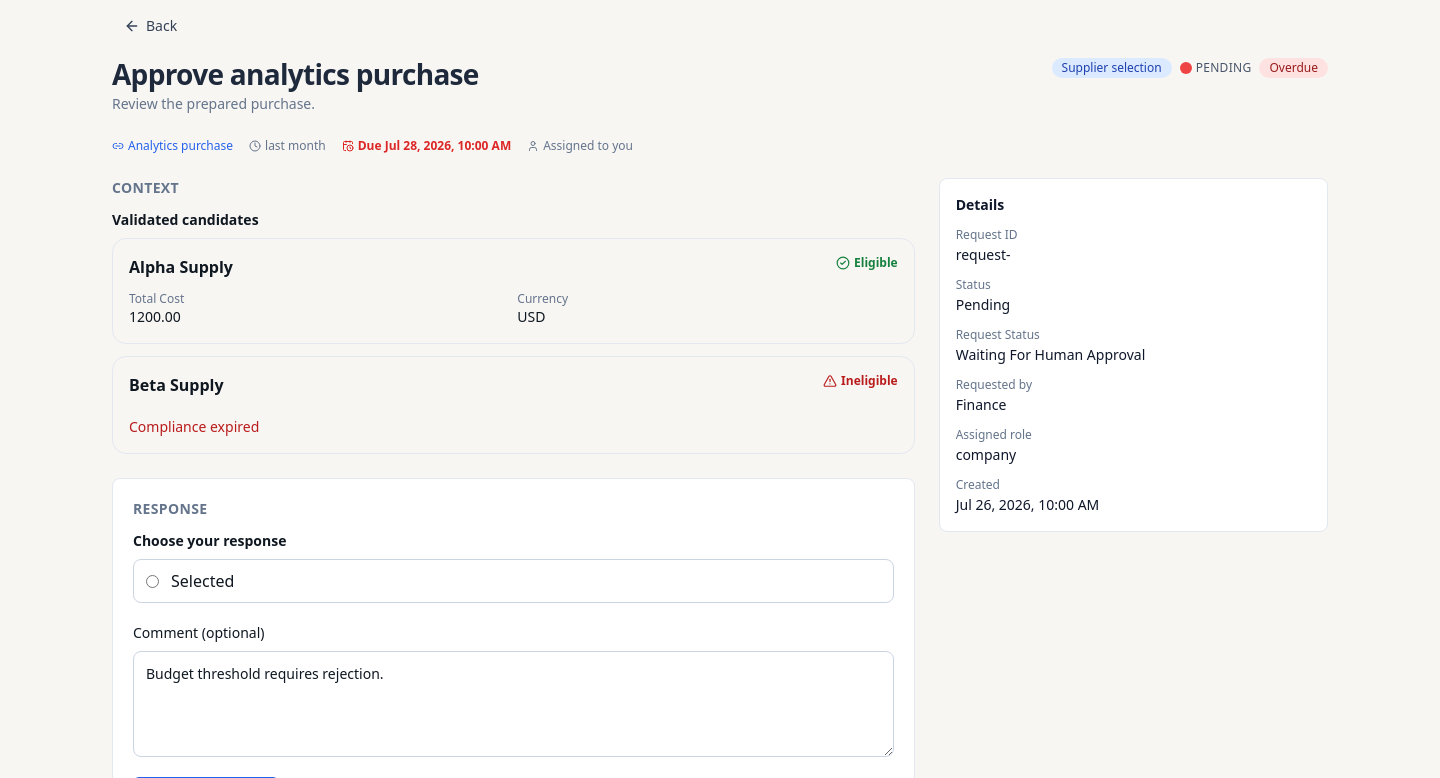
Test: HumanAction experience › allows exactly one eligible supplier and explains the terminal consequence
Step 1. Click the radio button labelled "selected" → [152, 581], box [146,574,159,588]
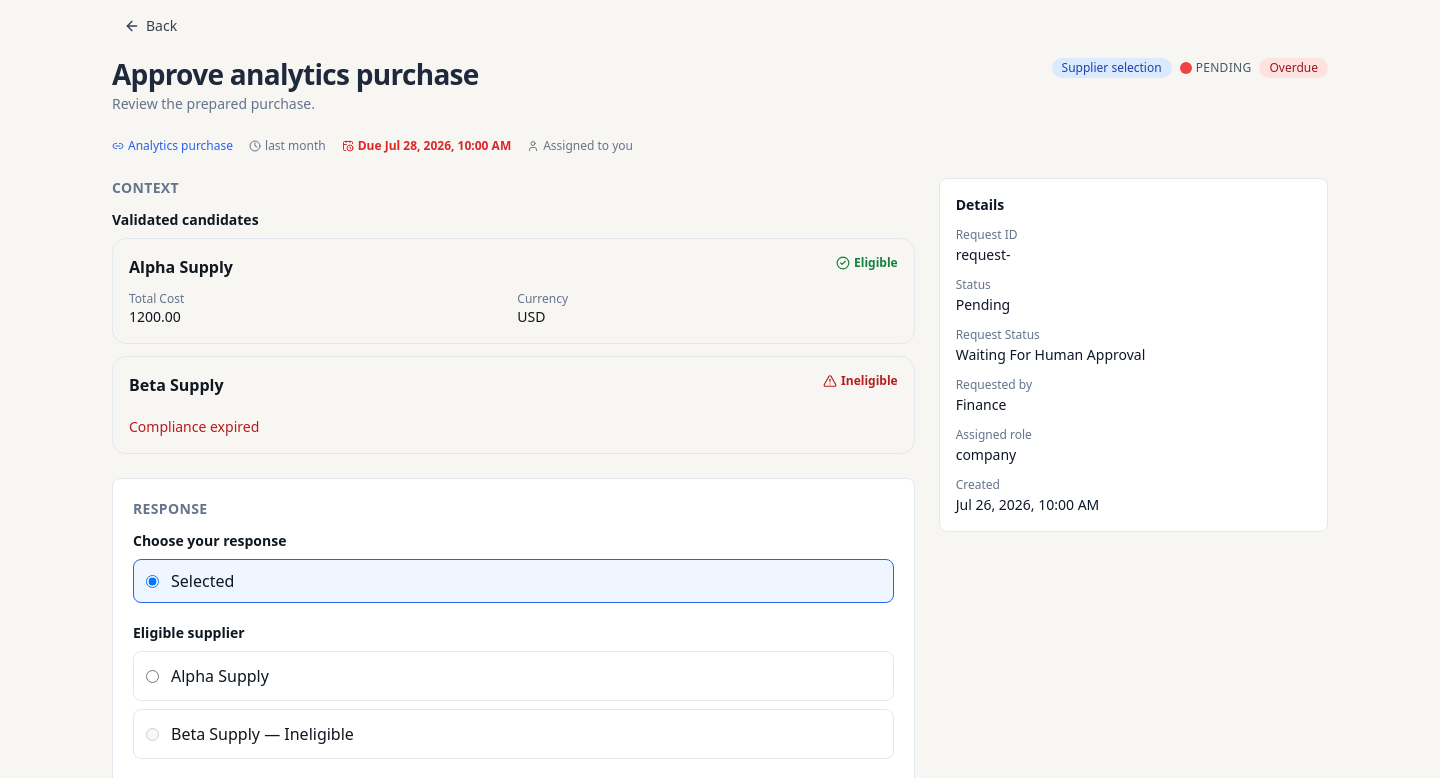
Expected: the radio button labelled "Beta Supply — Ineligible" is disabled, [146,728,159,740]
Step 2. Click the radio button labelled "Alpha Supply" → [152, 676], box [146,670,159,682]
(page scrolled)
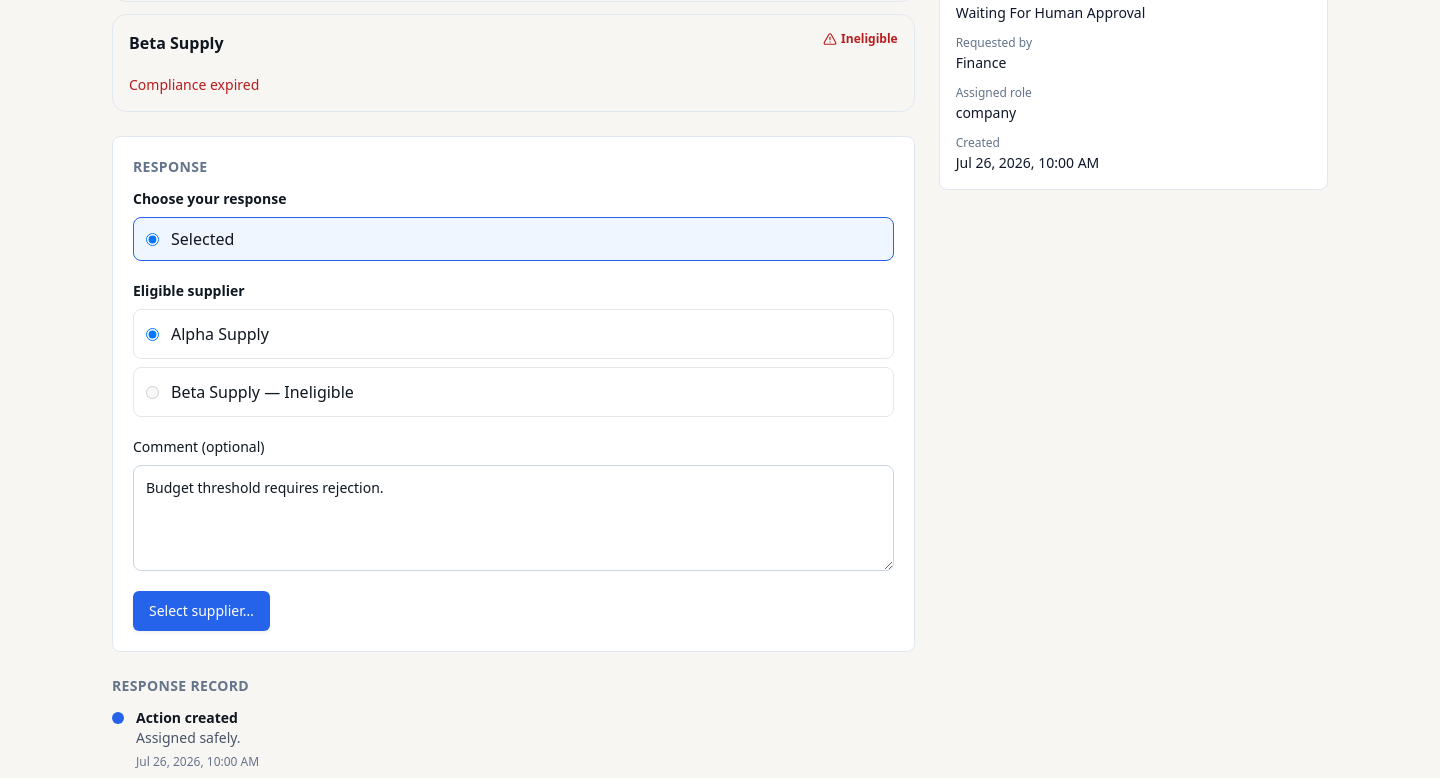
Step 3. Click the button "Select supplier…" → [201, 611], box [133,591,270,631]
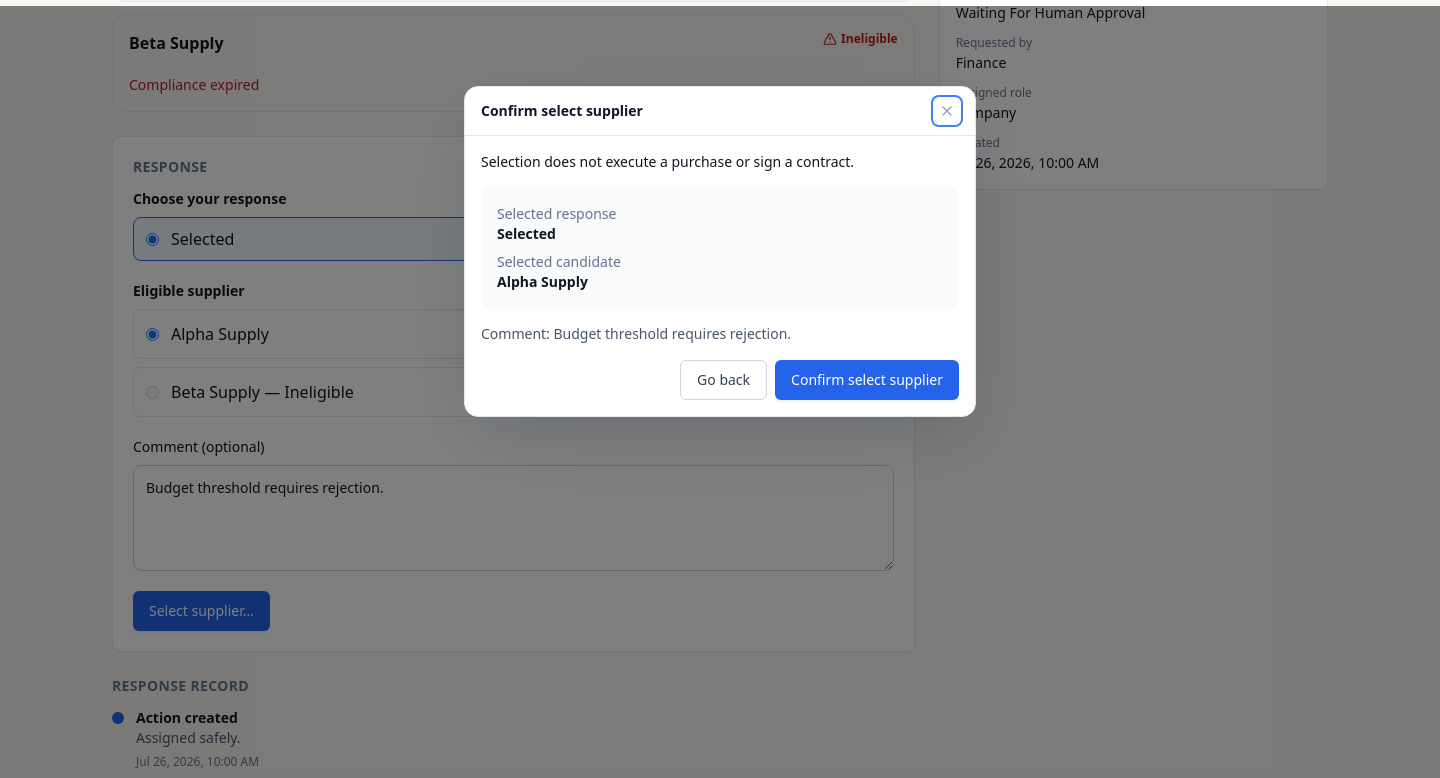
Expected: the dialog shows "Alpha Supply", [497,272,588,291]
Expected: the dialog shows "does not execute", [481,152,854,171]
